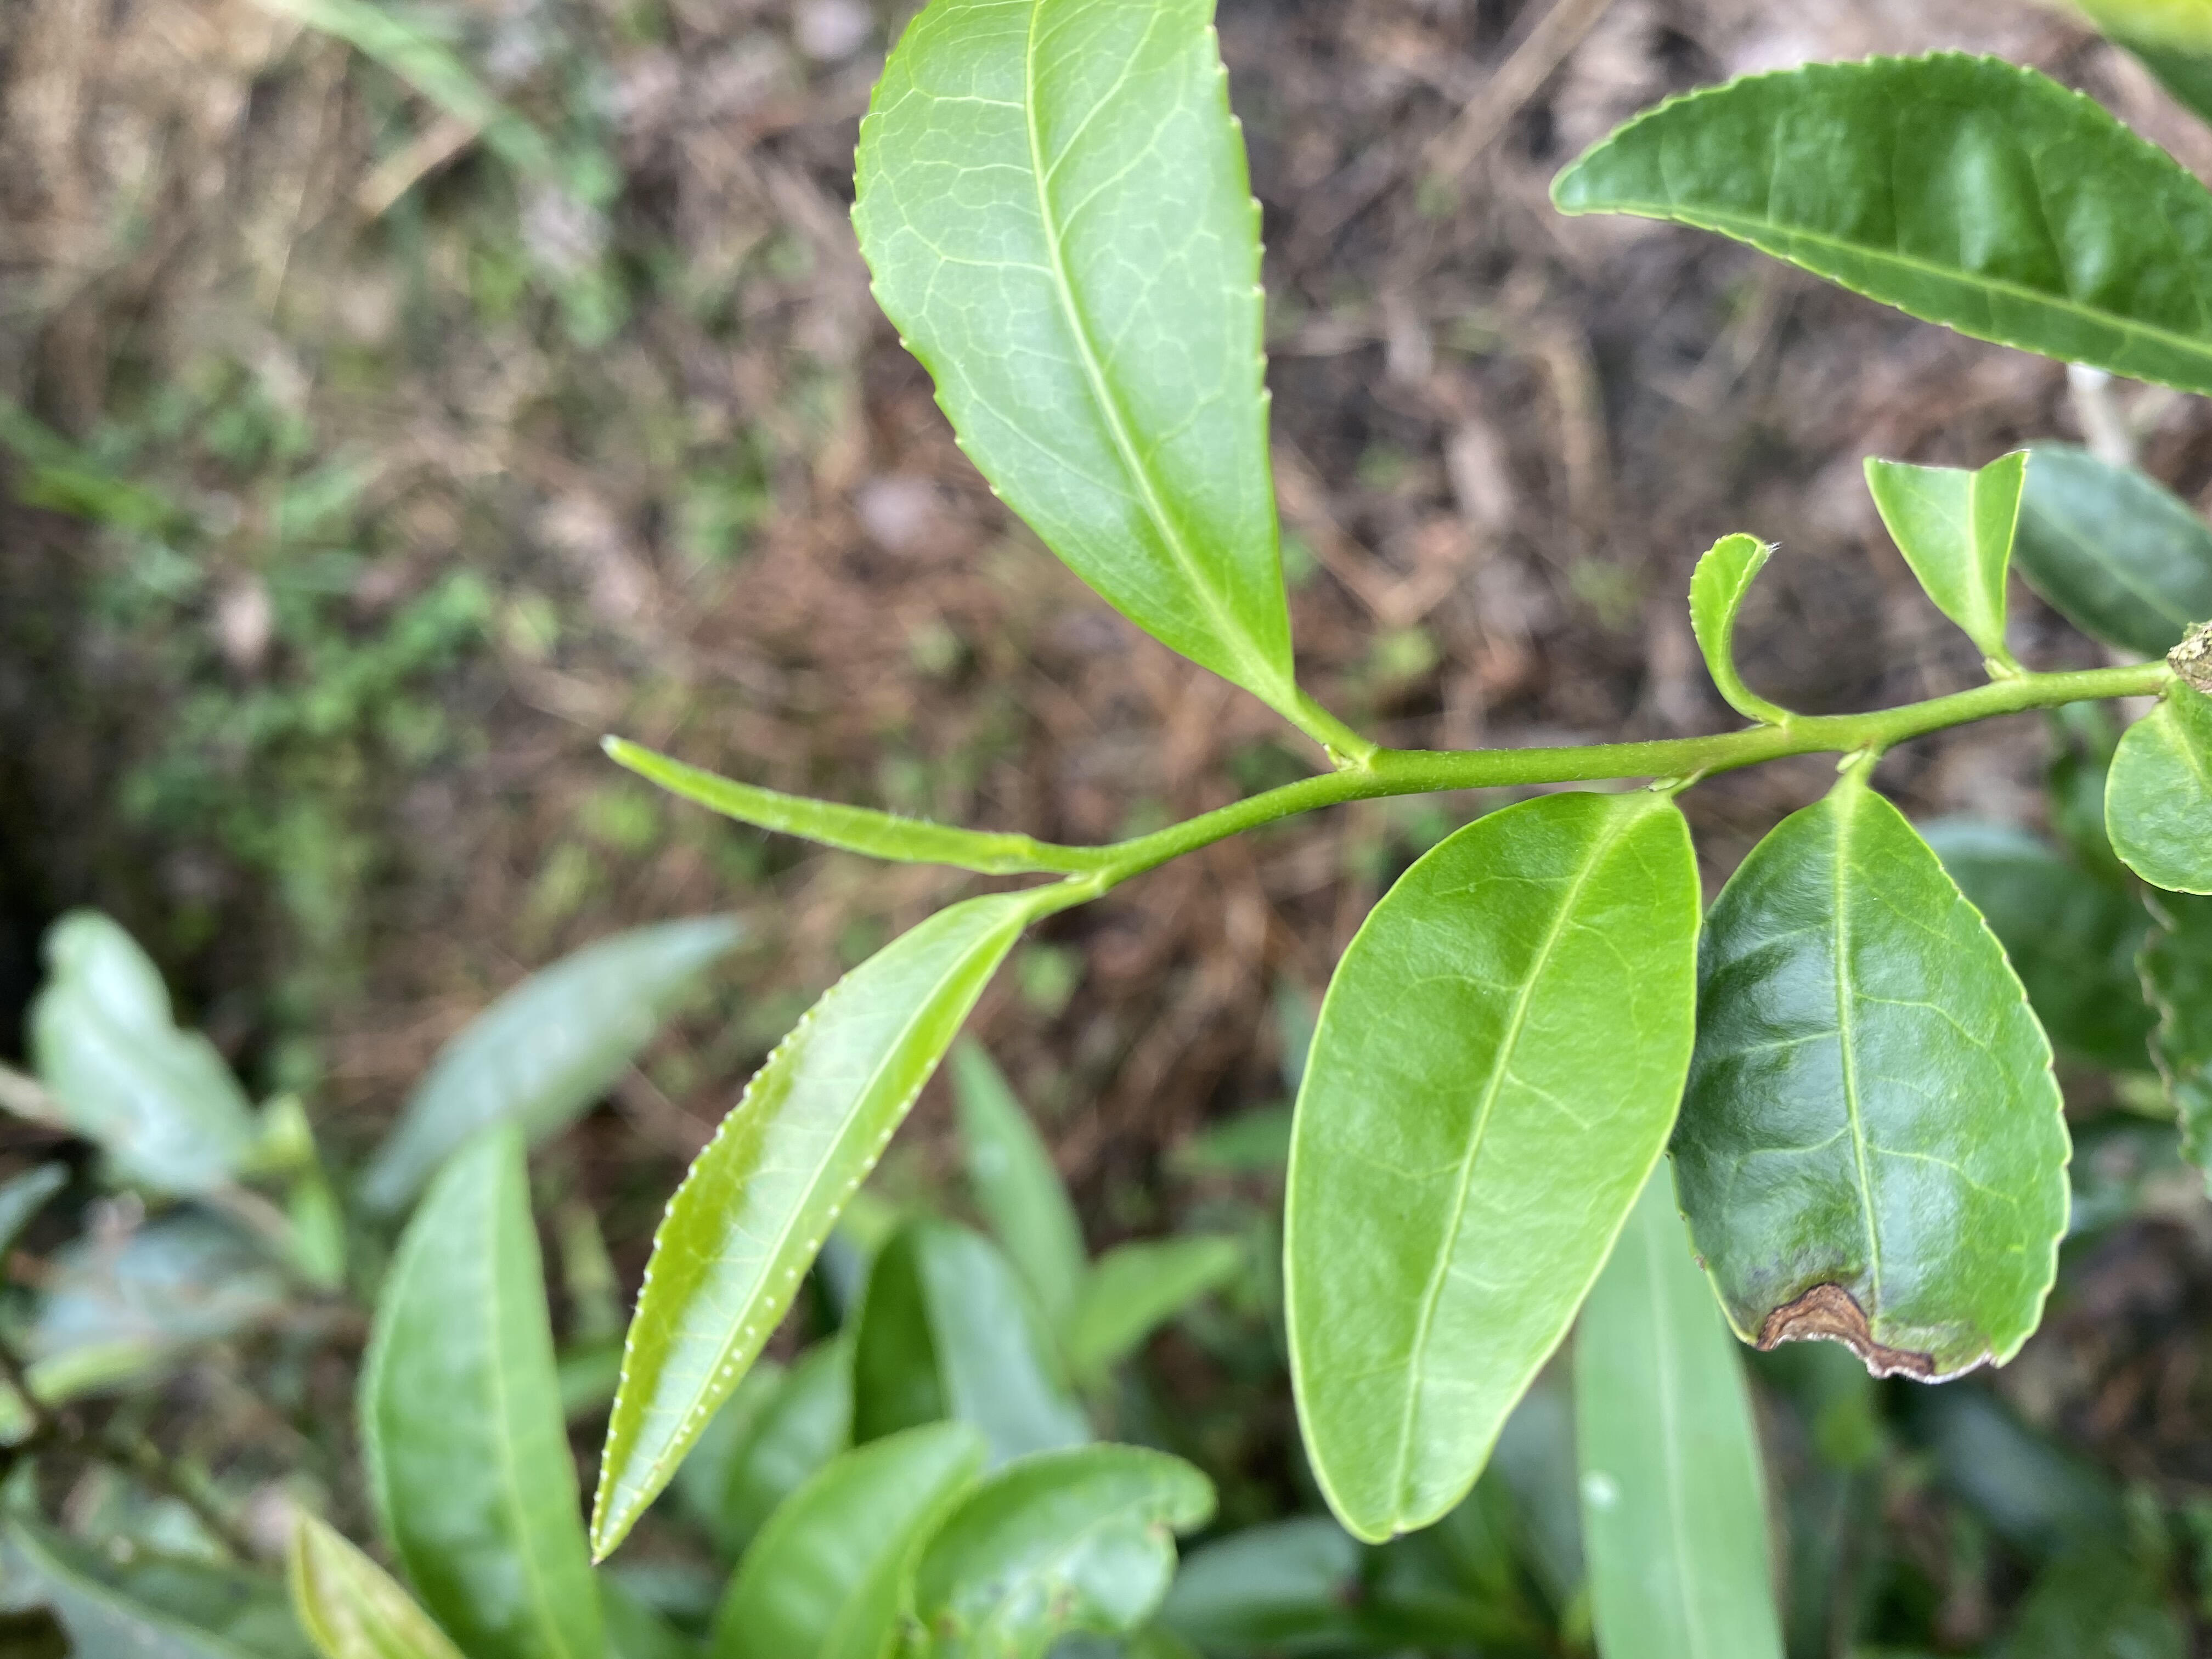chihuo_high: (1864, 448, 2031, 660)
healthy: (845, 5, 1301, 708), (1282, 789, 1703, 1547), (587, 889, 1031, 1567), (1547, 49, 2212, 394)
tanju_high: (1667, 788, 2073, 1382)
